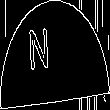N_S: (43, 28, 67, 82)
